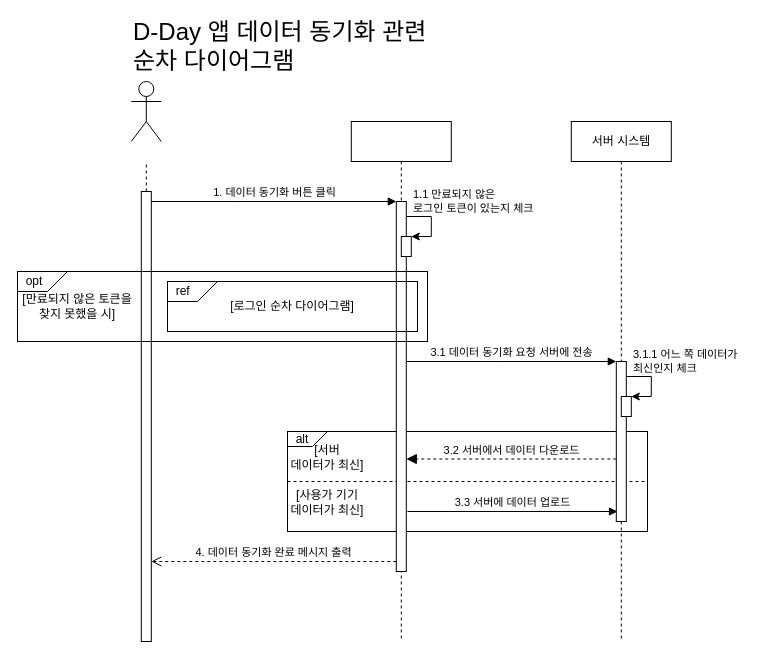
Some shapes in this 779 by 659 pixel diagram are drawn without their labels. Here are the shapes that lost their labels. From the top down, the box of each, then its label:
(130, 80, 161, 142): 사용자
(350, 120, 451, 642): 앱 시스템
